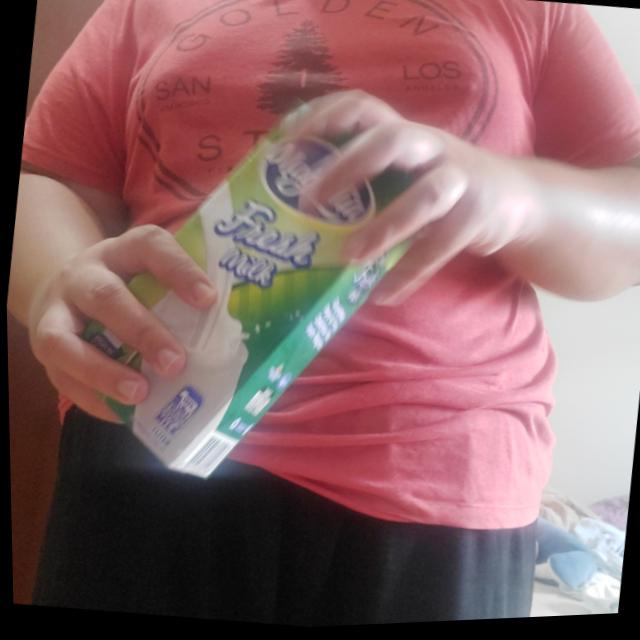milk: (48, 73, 450, 511)
